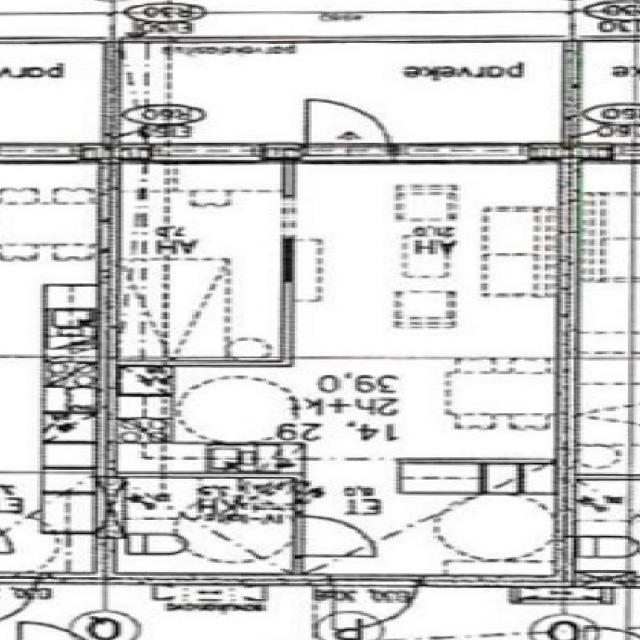door: (306, 96, 391, 164), (333, 574, 416, 632), (295, 515, 377, 556)
